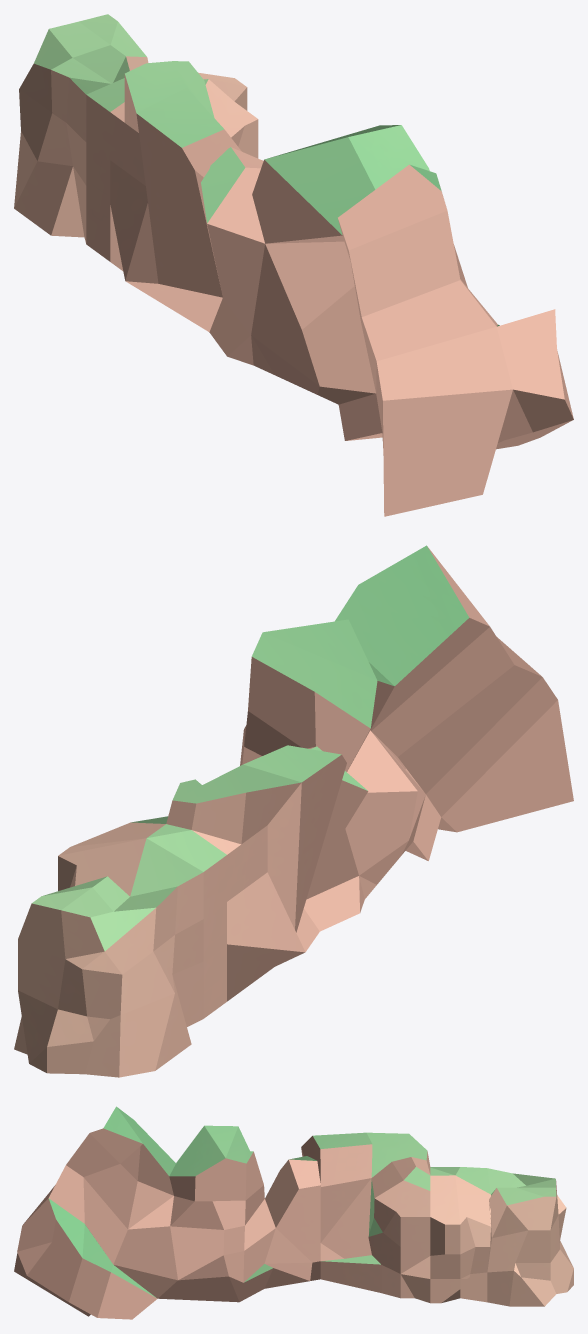
File: Falaise_lowpoly 1.fbx
The picture shows the model from 3 angles, top to bottom: view 1: azimuth 30°, elevation 25°; view 2: azimuth 150°, elevation 25°; view 3: azimuth 270°, elevation 25°; orthographic projection. The views are drawn at different scales.
Parts seen in each view (by area): view 1: Falaise_cote_lowpoly; view 2: Falaise_cote_lowpoly; view 3: Falaise_cote_lowpoly.
Part boxes in pixels (bbox=[...]): Falaise_cote_lowpoly: bbox=[14, 14, 573, 516]; Falaise_cote_lowpoly: bbox=[14, 545, 573, 1077]; Falaise_cote_lowpoly: bbox=[14, 1106, 573, 1319].
Bounding box in the file's own units: 12.99 × 18.91 × 49.25.
